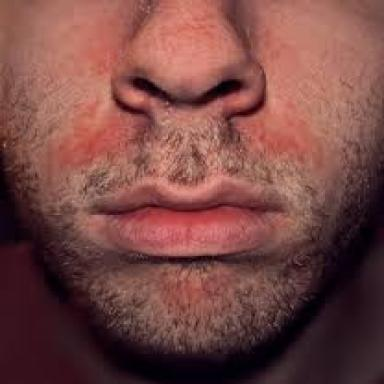burn: (244, 96, 323, 169), (59, 101, 122, 169), (257, 36, 308, 90), (79, 35, 131, 77), (164, 280, 203, 302)
